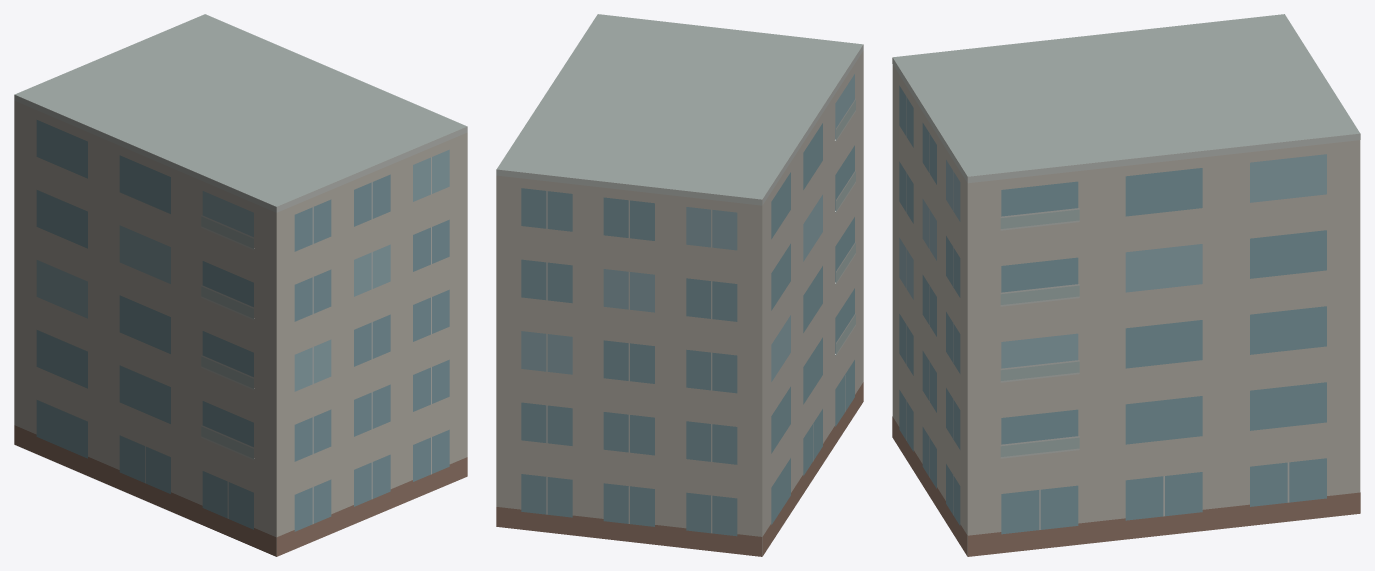
The model's file is survey-upis-32717057.glb.
3 views of the same model, side by side, from view 1: azimuth 30°, elevation 25°; view 2: azimuth 150°, elevation 25°; view 3: azimuth 270°, elevation 25° (orthographic). The views are drawn at different scales.
Visible parts, largest first — view 1: survey-upis-32717057.tmp; view 2: survey-upis-32717057.tmp; view 3: survey-upis-32717057.tmp.
Part boxes in pixels (box(x1,y1,x2,y2)): survey-upis-32717057.tmp: box(14, 14, 467, 556); survey-upis-32717057.tmp: box(496, 14, 863, 556); survey-upis-32717057.tmp: box(892, 14, 1360, 556).
Bounding box in the file's own units: 13.15 × 14.3 × 15.97.
